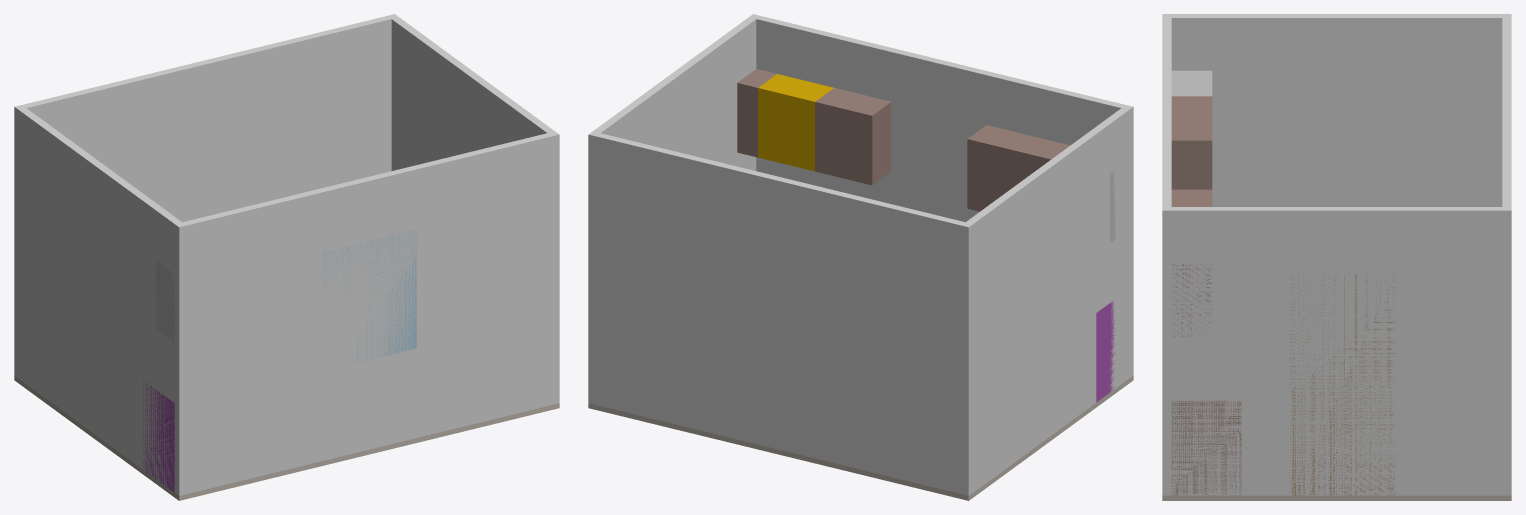
File: kitchen_20251229_140659.glb
3 renders of one model, left to right at view 1: azimuth 30°, elevation 25°; view 2: azimuth 150°, elevation 25°; view 3: azimuth 270°, elevation 25°, orthographic. The views are drawn at different scales.
Visible parts, largest first — view 1: world; view 2: world; view 3: world.
Boxes of the visible parts, left/top/right/bottom form: world: left=14, top=14, right=559, bottom=500; world: left=588, top=14, right=1133, bottom=500; world: left=1162, top=14, right=1511, bottom=500.
Bounding box in the file's own units: 400 × 275 × 300.
